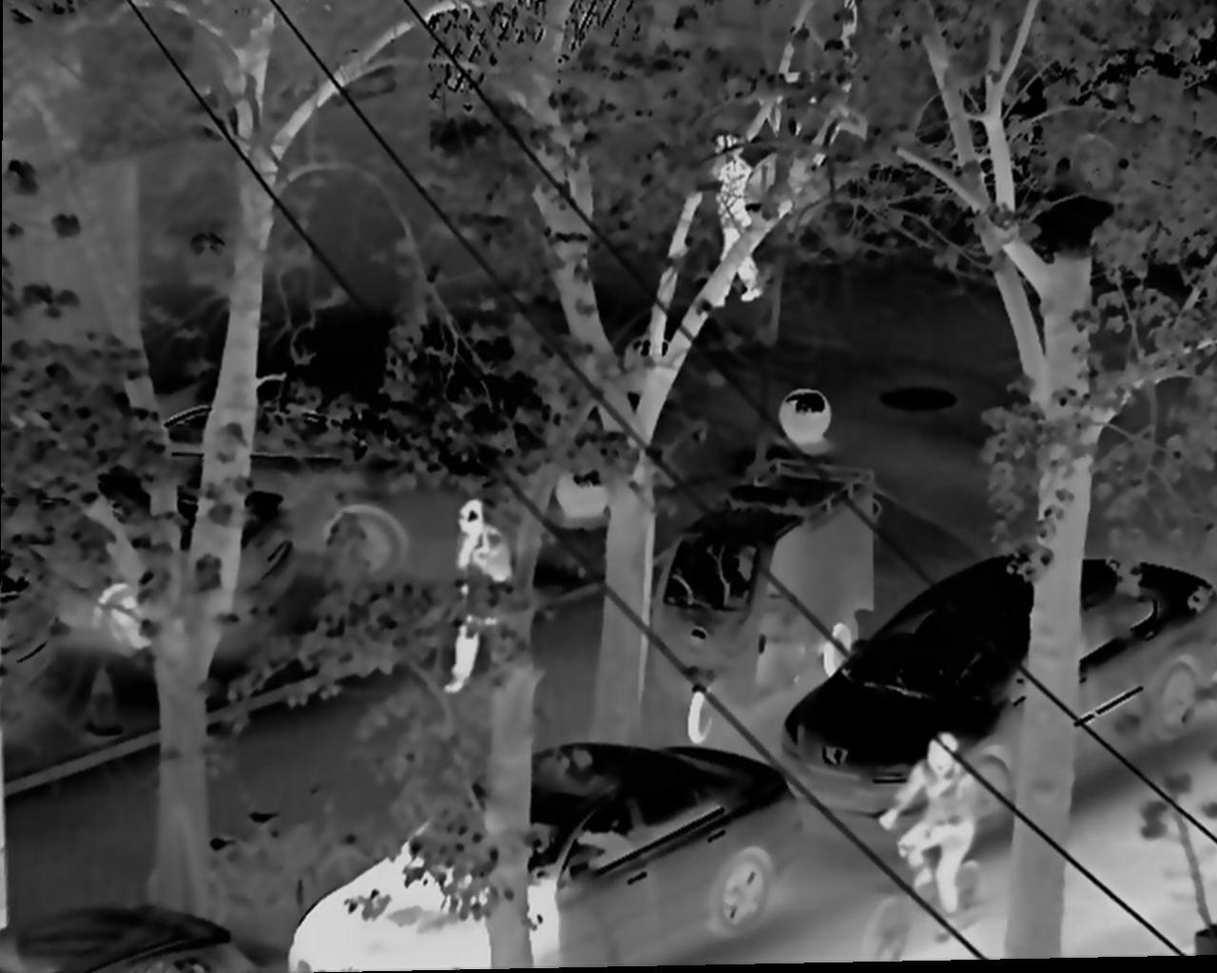person: (878, 732, 990, 958), (439, 497, 528, 691), (689, 142, 772, 301)
